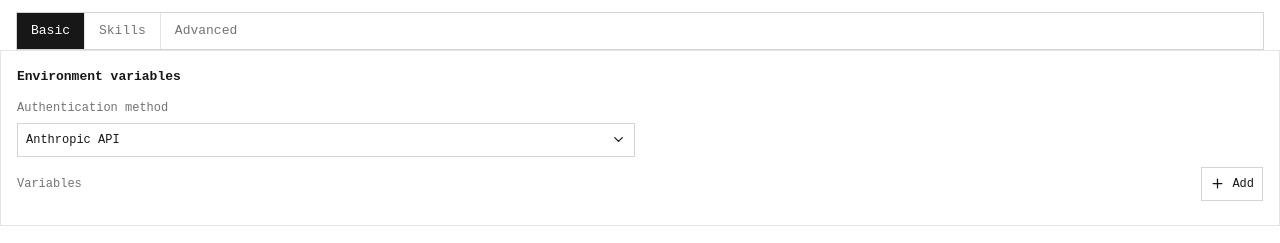
Test case: AgentProfileEditor › renders max thinking tokens as an advanced numeric parameter
What coordinates should you click on to do the following:
click the tab "Advanced"
I would click on:
 (206, 31)
Its box is [161,13,251,49].
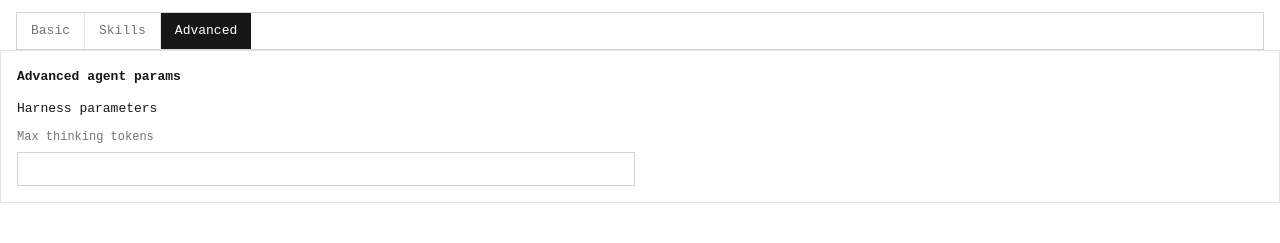
Now the number field labelled "Max thinking tokens" is shown, box [17,152,635,186]
